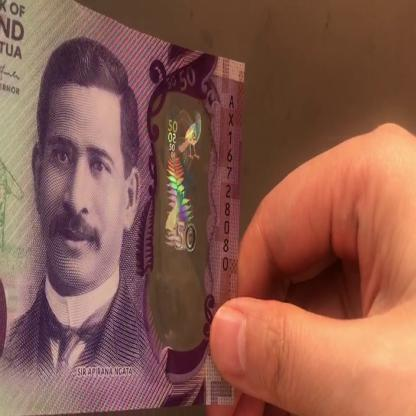50F: (162, 97, 201, 330)
